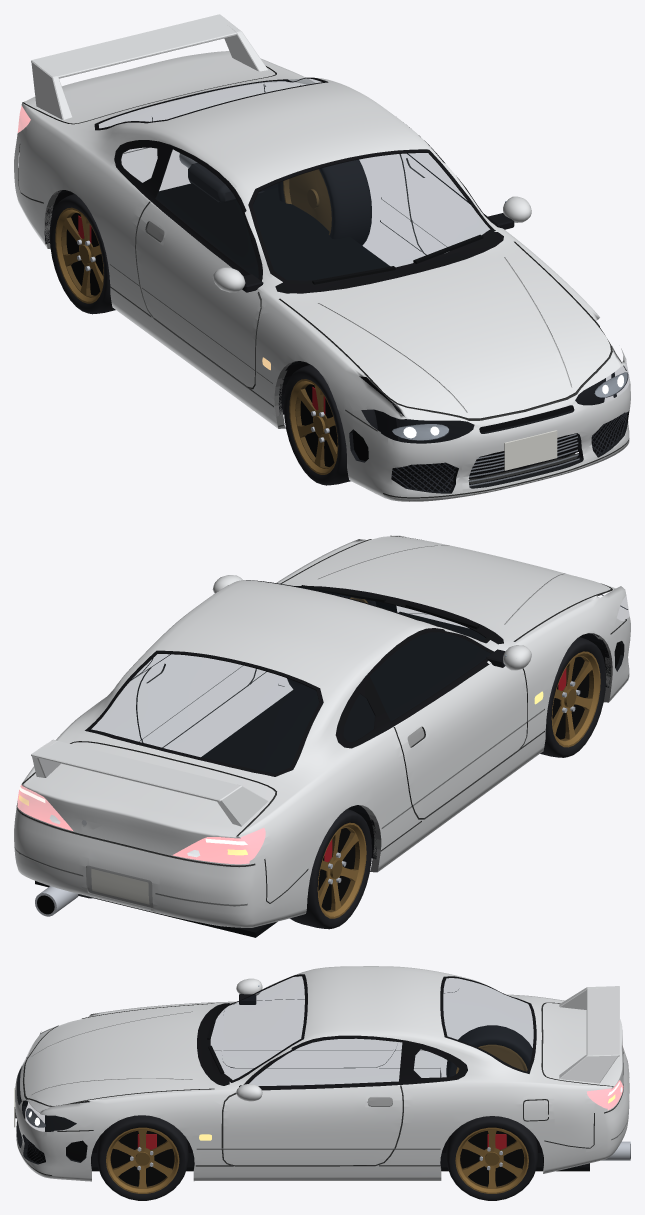
File: car_s15_white.glb
3 renders of one model, top to bottom at view 1: azimuth 30°, elevation 25°; view 2: azimuth 150°, elevation 25°; view 3: azimuth 270°, elevation 25°, orthographic. The views are drawn at different scales.
Visible parts, largest first — view 1: body, wheel_fl, wheel_rl, wheel_rr; view 2: body, wheel_rl, wheel_fl; view 3: body, wheel_fr, wheel_rr, wheel_rl.
Boxes of the visible parts, bbox=[...] form: body: bbox=[14, 14, 630, 501]; wheel_fl: bbox=[283, 364, 377, 485]; wheel_rl: bbox=[49, 194, 115, 314]; wheel_rr: bbox=[277, 159, 371, 245]; body: bbox=[14, 535, 630, 937]; wheel_rl: bbox=[290, 809, 371, 929]; wheel_fl: bbox=[540, 637, 606, 757]; body: bbox=[14, 966, 630, 1181]; wheel_fr: bbox=[97, 1115, 188, 1200]; wheel_rr: bbox=[446, 1116, 537, 1200]; wheel_rl: bbox=[446, 1025, 532, 1077].
Bounding box in the file's own units: 1.94 × 1.28 × 4.46.
